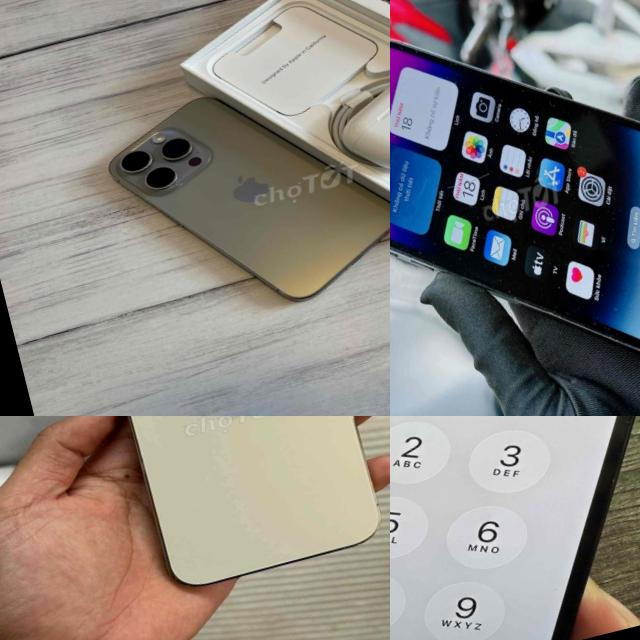physical_damage: (428, 146, 510, 202)
